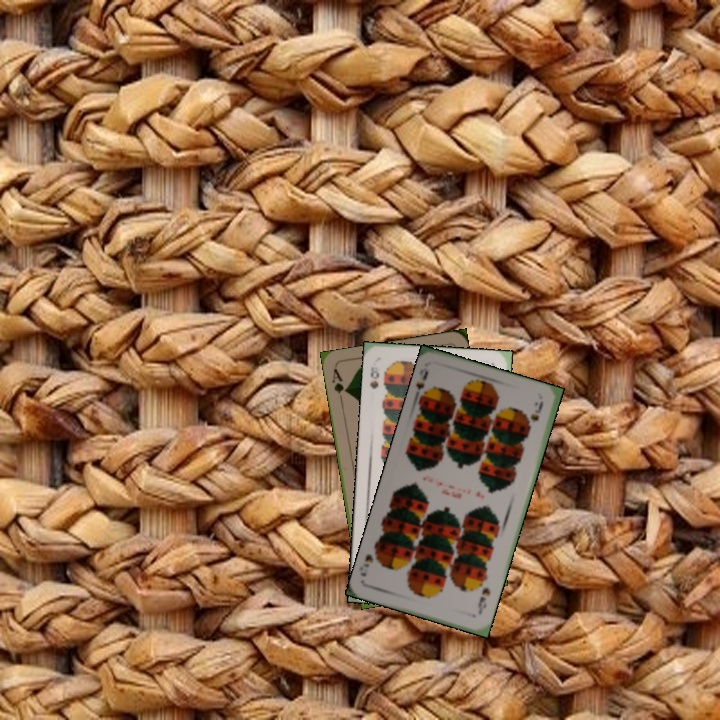GA: (328, 364, 350, 405)
S8: (366, 362, 382, 391)
S9: (410, 367, 431, 403), (474, 584, 493, 617)
